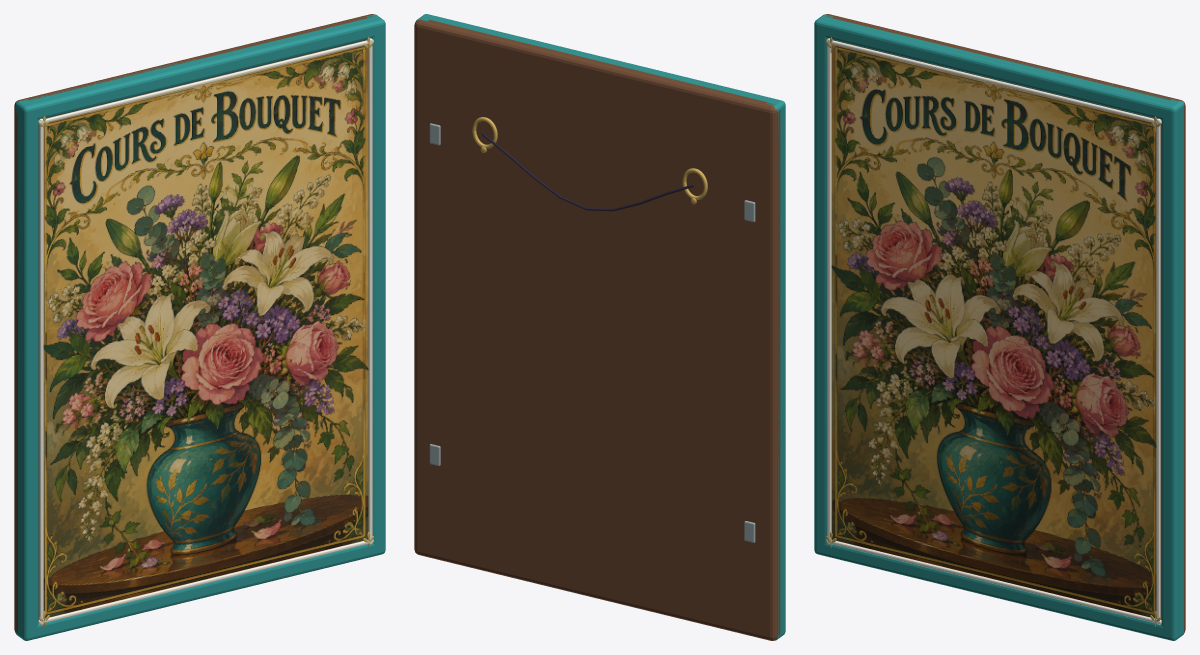
File: poster_flower.glb
3 views of the same model, side by side, from view 1: azimuth 30°, elevation 25°; view 2: azimuth 150°, elevation 25°; view 3: azimuth 330°, elevation 25° (orthographic).
Visible parts, largest first — view 1: Flat_framed_artwork, Teal_vertical_frame, Teal_horizontal_frame.001, Teal_vertical_frame.001, Teal_horizontal_frame, Wood_backing, Cream_inner_vertical, Cream_inner_vertical.001, Cream_inner_horizontal, Cream_inner_horizontal.001; view 2: Wood_backing, Teal_vertical_frame, Teal_horizontal_frame.001, Rear_hanging_wire; view 3: Flat_framed_artwork, Teal_vertical_frame.001, Teal_horizontal_frame.001, Teal_vertical_frame, Teal_horizontal_frame, Wood_backing, Cream_inner_vertical.001, Cream_inner_vertical, Cream_inner_horizontal, Cream_inner_horizontal.001.
Boxes of the visible parts, <box> form: Flat_framed_artwork: <box>43,44,368,618</box>; Teal_vertical_frame: <box>16,99,38,640</box>; Teal_horizontal_frame.001: <box>15,14,385,120</box>; Teal_vertical_frame.001: <box>366,14,385,552</box>; Teal_horizontal_frame: <box>15,542,385,640</box>; Wood_backing: <box>14,14,374,632</box>; Cream_inner_vertical: <box>39,118,43,624</box>; Cream_inner_vertical.001: <box>368,38,372,544</box>; Cream_inner_horizontal: <box>38,539,373,623</box>; Cream_inner_horizontal.001: <box>38,39,373,123</box>; Wood_backing: <box>414,19,780,640</box>; Teal_vertical_frame: <box>766,98,785,639</box>; Teal_horizontal_frame.001: <box>416,14,785,118</box>; Rear_hanging_wire: <box>481,133,694,211</box>; Flat_framed_artwork: <box>831,44,1156,618</box>; Teal_vertical_frame.001: <box>1161,99,1184,640</box>; Teal_horizontal_frame.001: <box>814,15,1184,120</box>; Teal_vertical_frame: <box>814,14,832,553</box>; Teal_horizontal_frame: <box>814,542,1183,640</box>; Wood_backing: <box>825,14,1185,632</box>; Cream_inner_vertical.001: <box>1156,118,1160,624</box>; Cream_inner_vertical: <box>827,38,831,544</box>; Cream_inner_horizontal: <box>826,539,1161,623</box>; Cream_inner_horizontal.001: <box>826,39,1161,123</box>.
Bounding box in the file's own units: 0.61 × 0.86 × 0.0607.
Materials: 8 (1 with a texture image).
